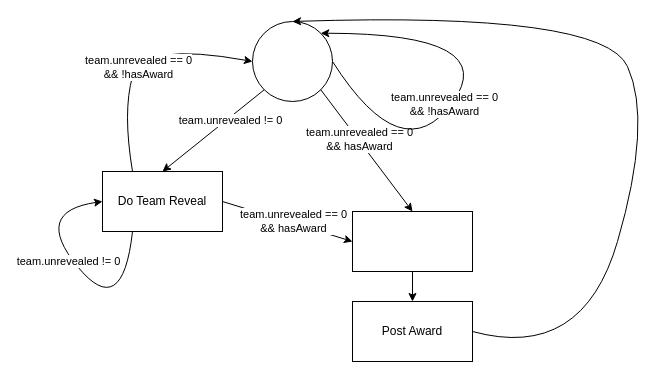
This 656x379 diagram has some shape labels left out. Here are the shapes that lost their labels. From the top down, the centre of each, then its label:
(x=292, y=61): Moved up to a new team
(x=412, y=241): Do Award
